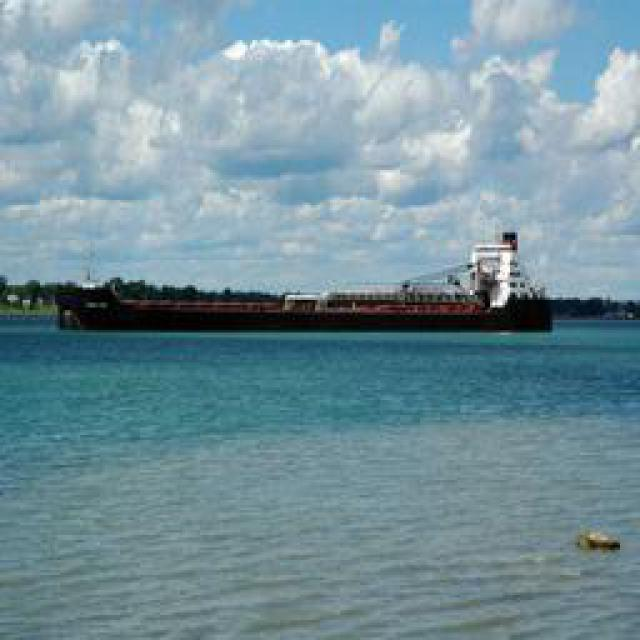Ship: (72, 232, 545, 335)
